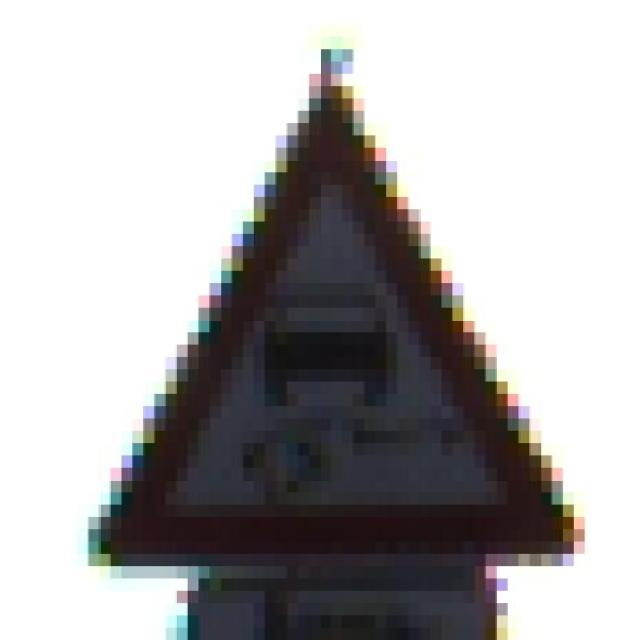Slippery Road Ahead: (65, 49, 583, 578)
